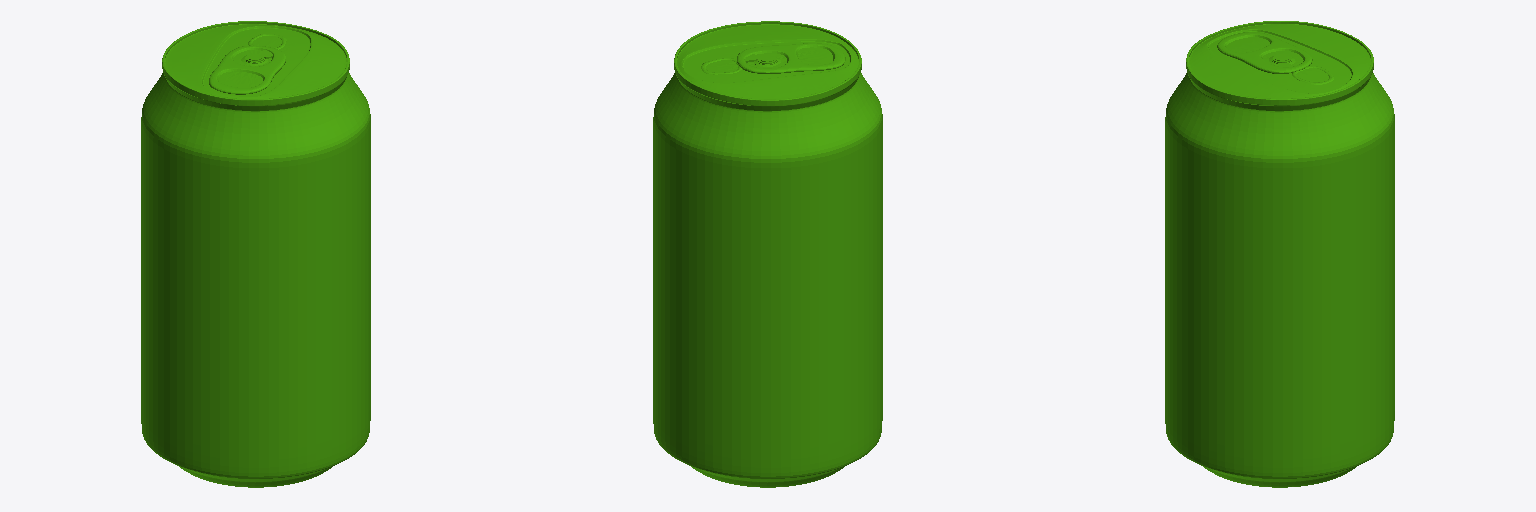
The model's file is uploads_files_301848_obj.obj.
3 views of the same model, side by side, from view 1: azimuth 30°, elevation 25°; view 2: azimuth 150°, elevation 25°; view 3: azimuth 270°, elevation 25° (orthographic).
Visible parts, largest first — view 1: Cylinder01, Object02, Object01; view 2: Cylinder01, Object02, Object01; view 3: Cylinder01, Object02, Object01.
Boxes of the visible parts, x1,y1,x2,y2 form: Cylinder01: [141, 69, 370, 479]; Object02: [162, 21, 349, 105]; Object01: [179, 466, 332, 487]; Cylinder01: [653, 69, 882, 479]; Object02: [674, 21, 861, 105]; Object01: [691, 466, 844, 487]; Cylinder01: [1165, 69, 1394, 479]; Object02: [1186, 21, 1373, 105]; Object01: [1203, 466, 1356, 487].
Size of the model in its own units: 22.1 by 42.17 by 22.1.